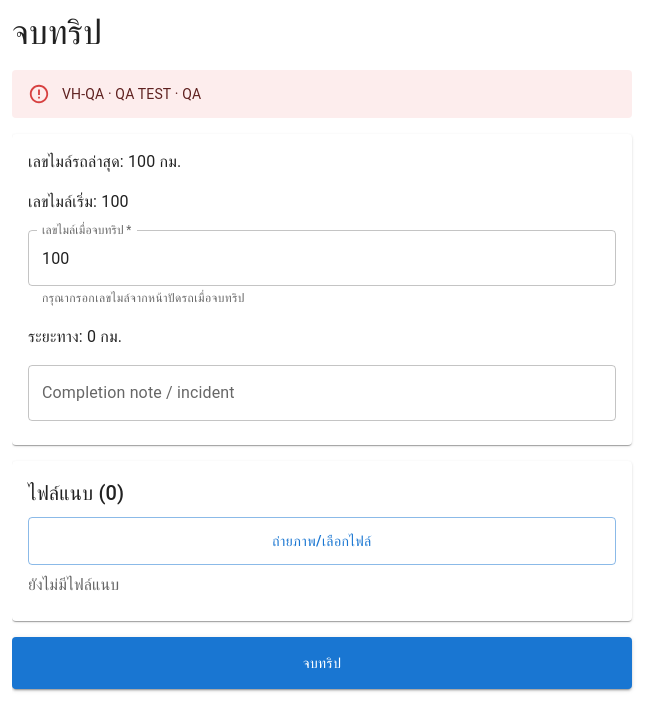
Test: Fleet M4.2 mobile driver UI › validates end mileage and previews distance
Step 1. Replace the text in the number field labelled "เลขไมล์เมื่อจบทริป *" with "90" → (322, 258), box [28,230,616,286]
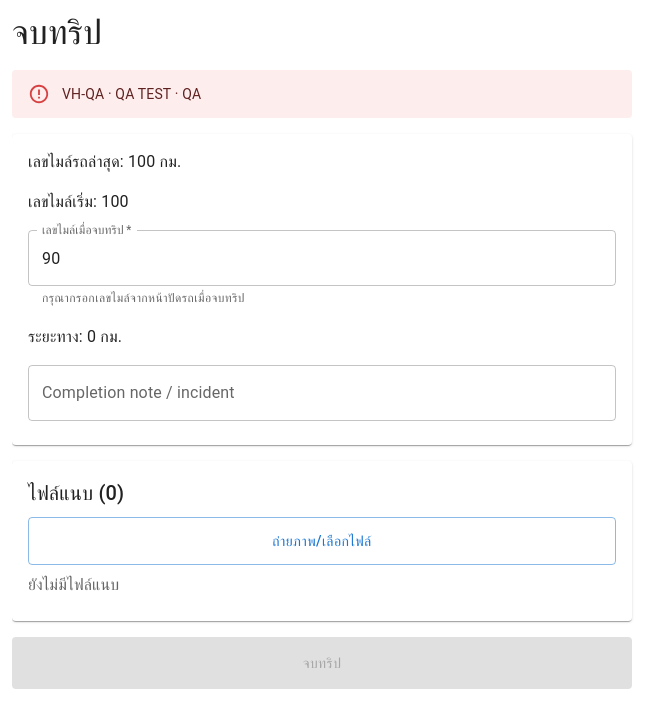
Expected: the text "ระยะทาง: 0 กม." is shown, [28,327,122,346]
Now the button "จบทริป" is disabled, box [12,637,632,689]
